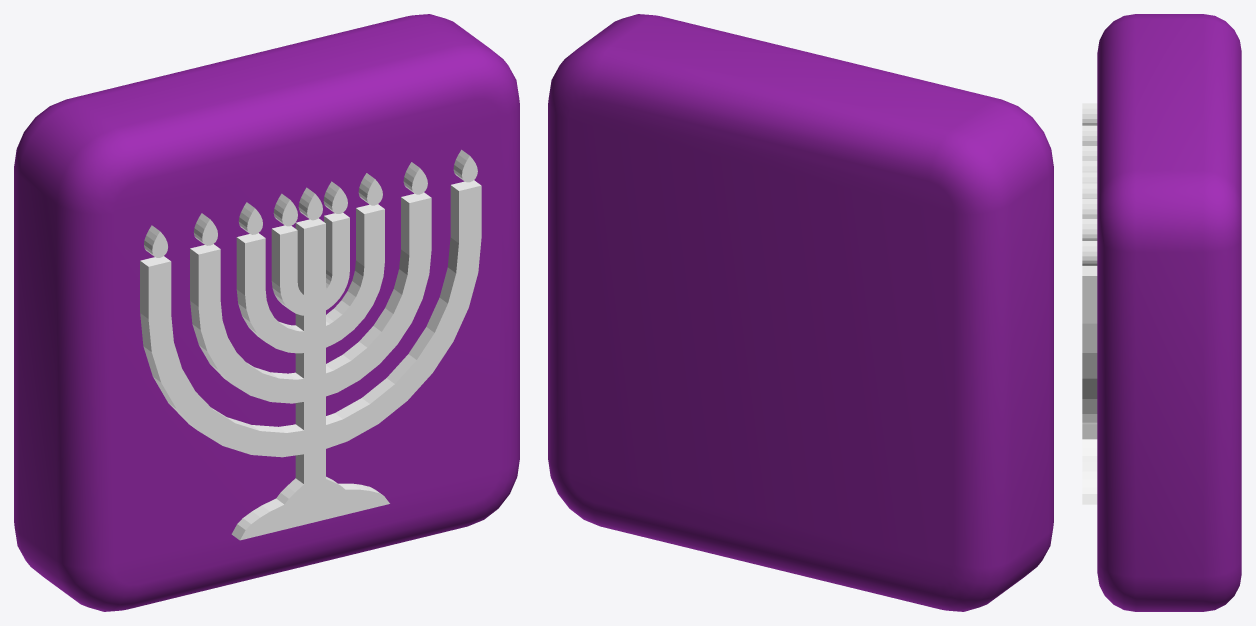
File: menorah.gltf
3 renders of one model, left to right at view 1: azimuth 30°, elevation 25°; view 2: azimuth 150°, elevation 25°; view 3: azimuth 270°, elevation 25°, orthographic. The views are drawn at different scales.
Visible parts, largest first — view 1: Cube.6396; view 2: Cube.6396; view 3: Cube.6396.
Boxes of the visible parts, x1,y1,x2,y2 form: Cube.6396: [14, 14, 519, 611]; Cube.6396: [548, 14, 1053, 611]; Cube.6396: [1082, 14, 1241, 611].
Size of the model in its own units: 2.2 by 2.2 by 0.73.
1 material, 1 textured.
